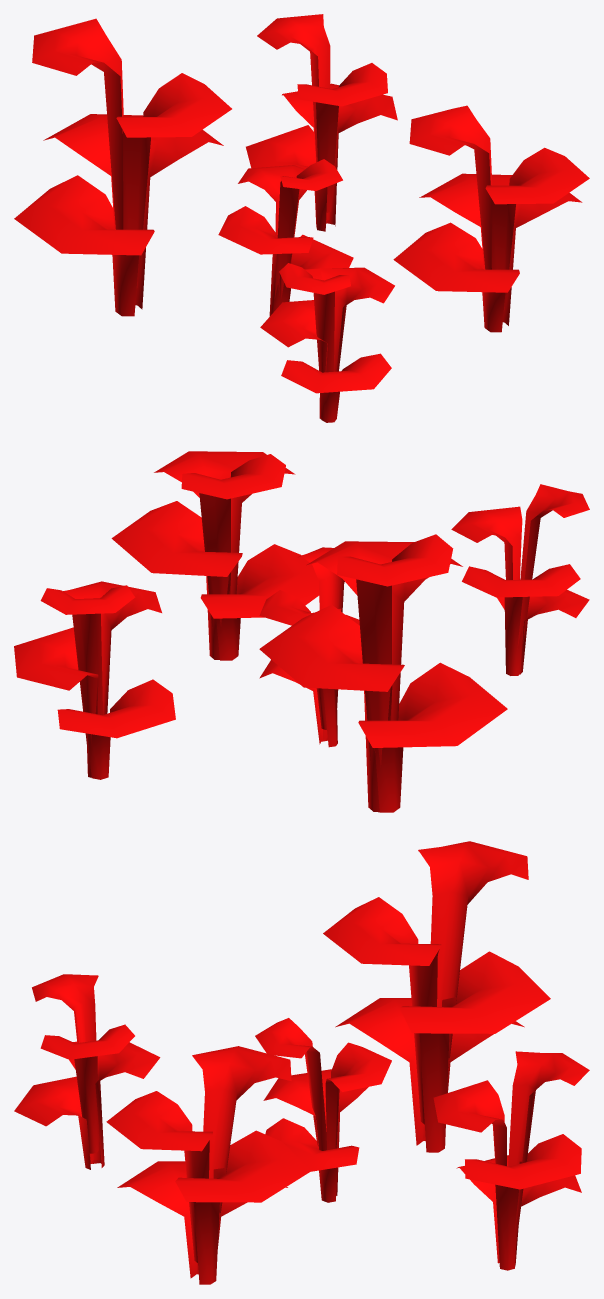
File: Fungi_6.fbx
The picture shows the model from 3 angles, top to bottom: view 1: azimuth 30°, elevation 25°; view 2: azimuth 150°, elevation 25°; view 3: azimuth 270°, elevation 25°; orthographic projection. The views are drawn at different scales.
Visible parts, largest first — view 1: Fungi_6; view 2: Fungi_6; view 3: Fungi_6.
Boxes of the visible parts, x1,y1,x2,y2 form: Fungi_6: (14,14,589,422); Fungi_6: (14,451,589,812); Fungi_6: (14,841,589,1284).
Size of the model in its own units: 533 by 313 by 592.
